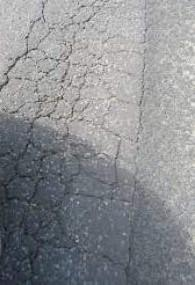alligator-crack: (0, 0, 144, 285)
